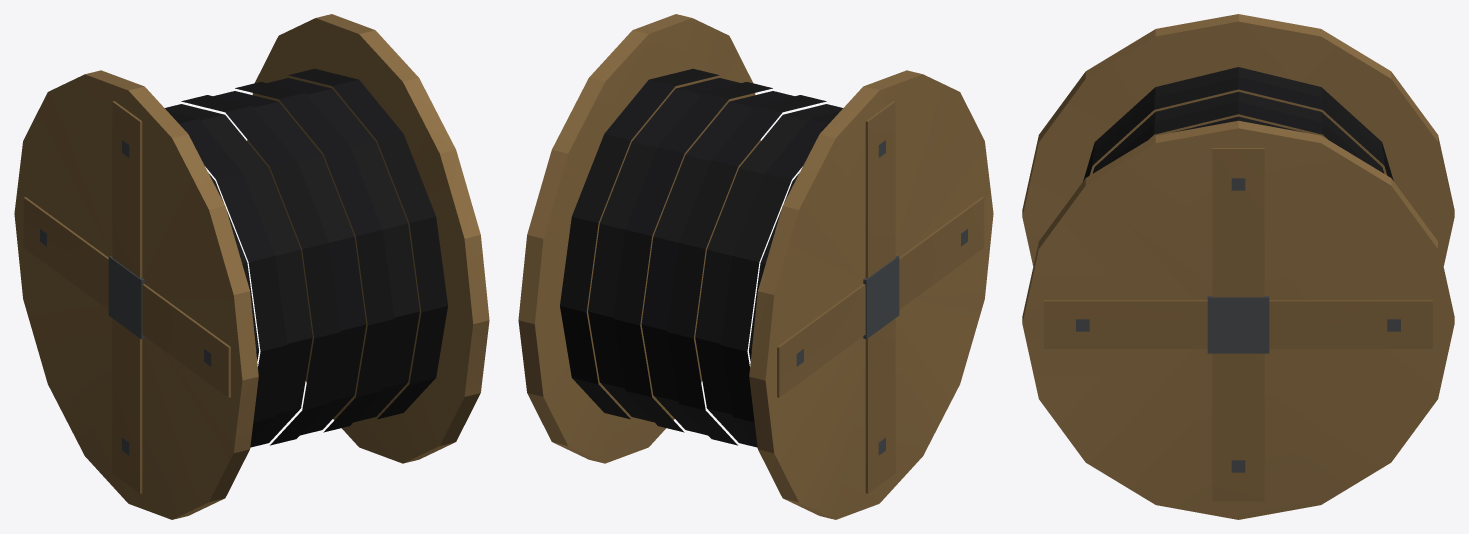
Rendered from spool.cable.wood.glb.
3 views of the same model, side by side, from view 1: azimuth 30°, elevation 25°; view 2: azimuth 150°, elevation 25°; view 3: azimuth 270°, elevation 25° (orthographic). The views are drawn at different scales.
Parts seen in each view (by area): view 1: spool_cable_wood; view 2: spool_cable_wood; view 3: spool_cable_wood.
Part boxes in pixels (<box>): spool_cable_wood: <box>14,14,489,519</box>; spool_cable_wood: <box>518,14,993,519</box>; spool_cable_wood: <box>1022,14,1454,519</box>.
Size of what is drawn, in the model's own units: 0.9 by 1.4 by 1.4.
